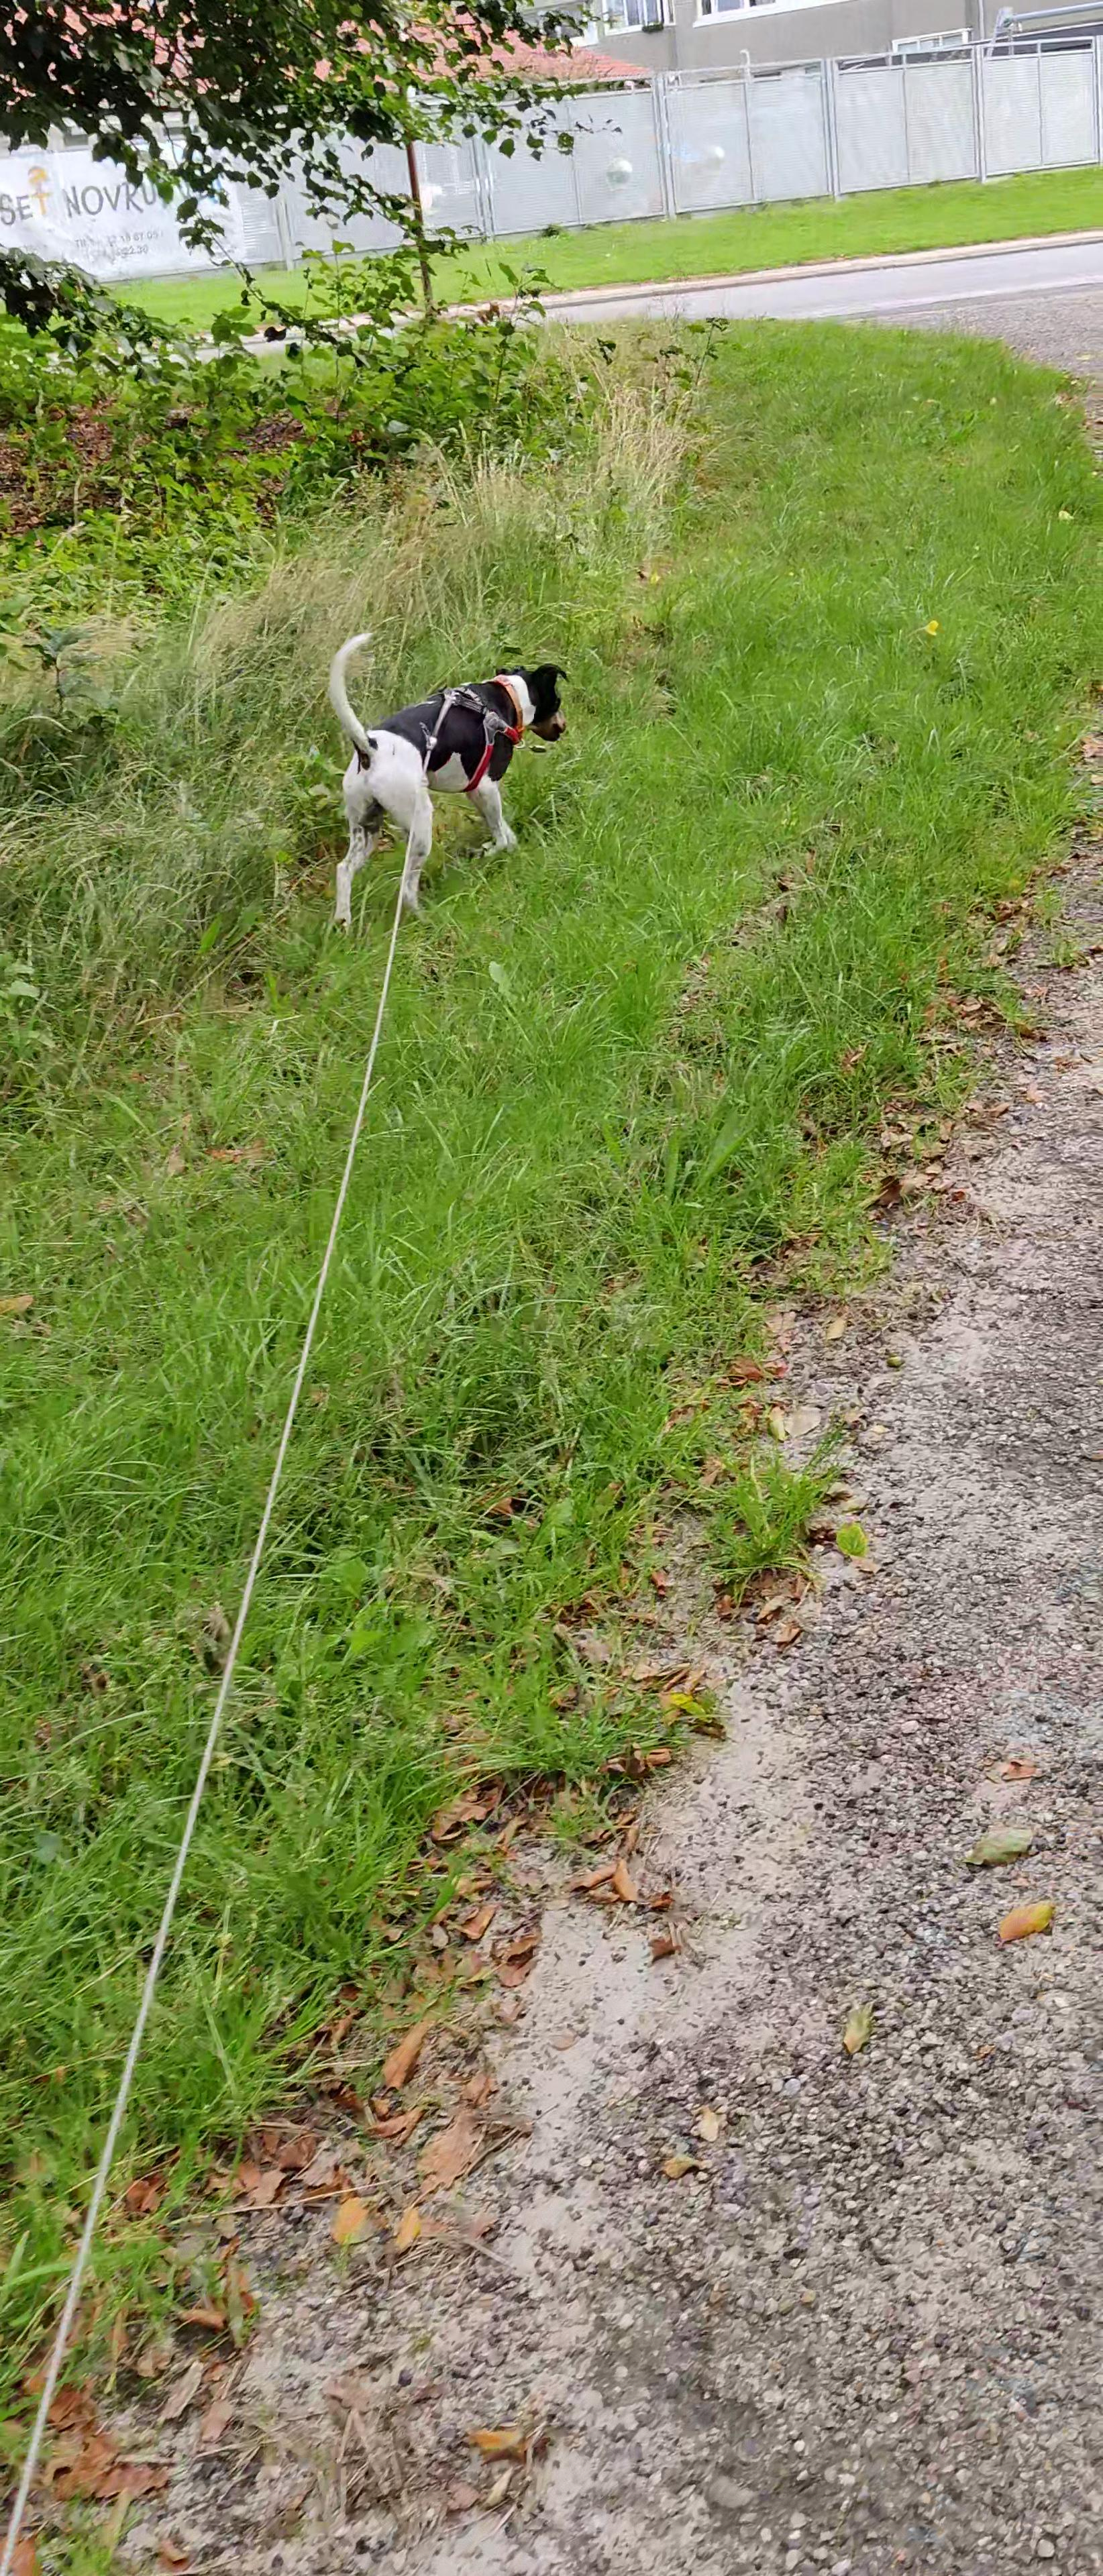Dog: (304, 623, 588, 940)
